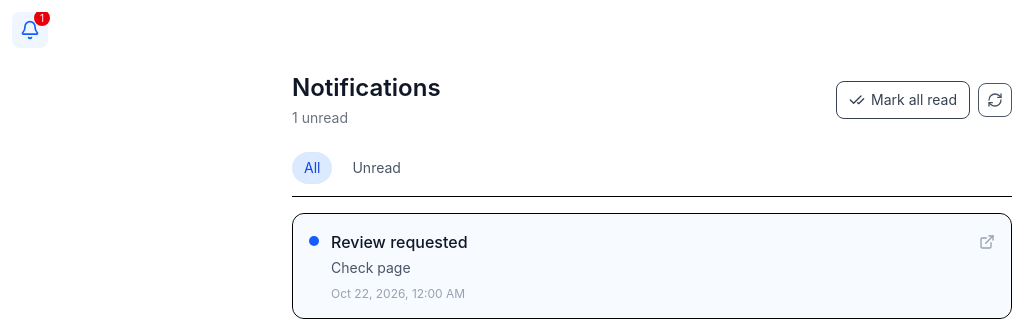
Scenario: notification read synchronization › synchronizes single reads and removes read rows from the unread filter
Click the button "Unread" at [377, 168], box [340, 152, 413, 184]
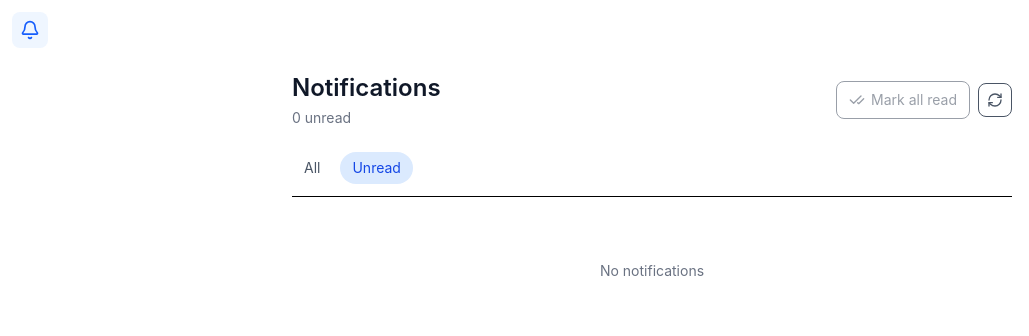
Now the text labelled "1 unread" is gone
Now the button "Review requested" is gone
Now the text "0 unread" is shown, box [292, 109, 351, 126]
